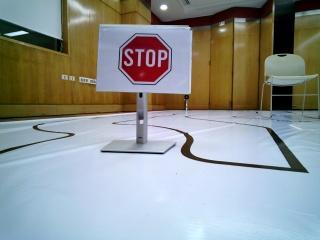stop: (104, 29, 186, 92)
